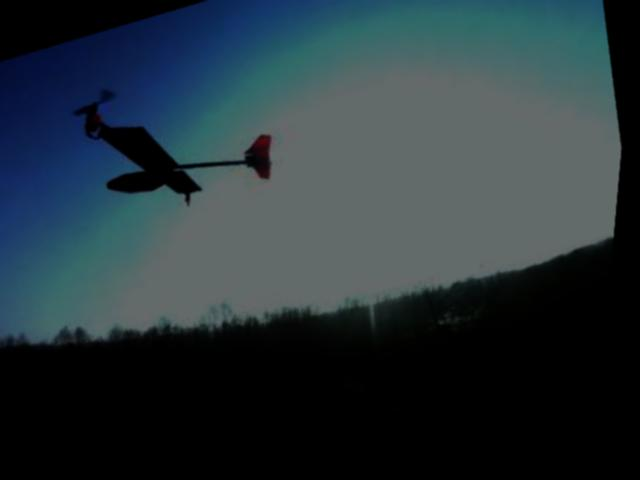uav: (45, 39, 302, 256)
